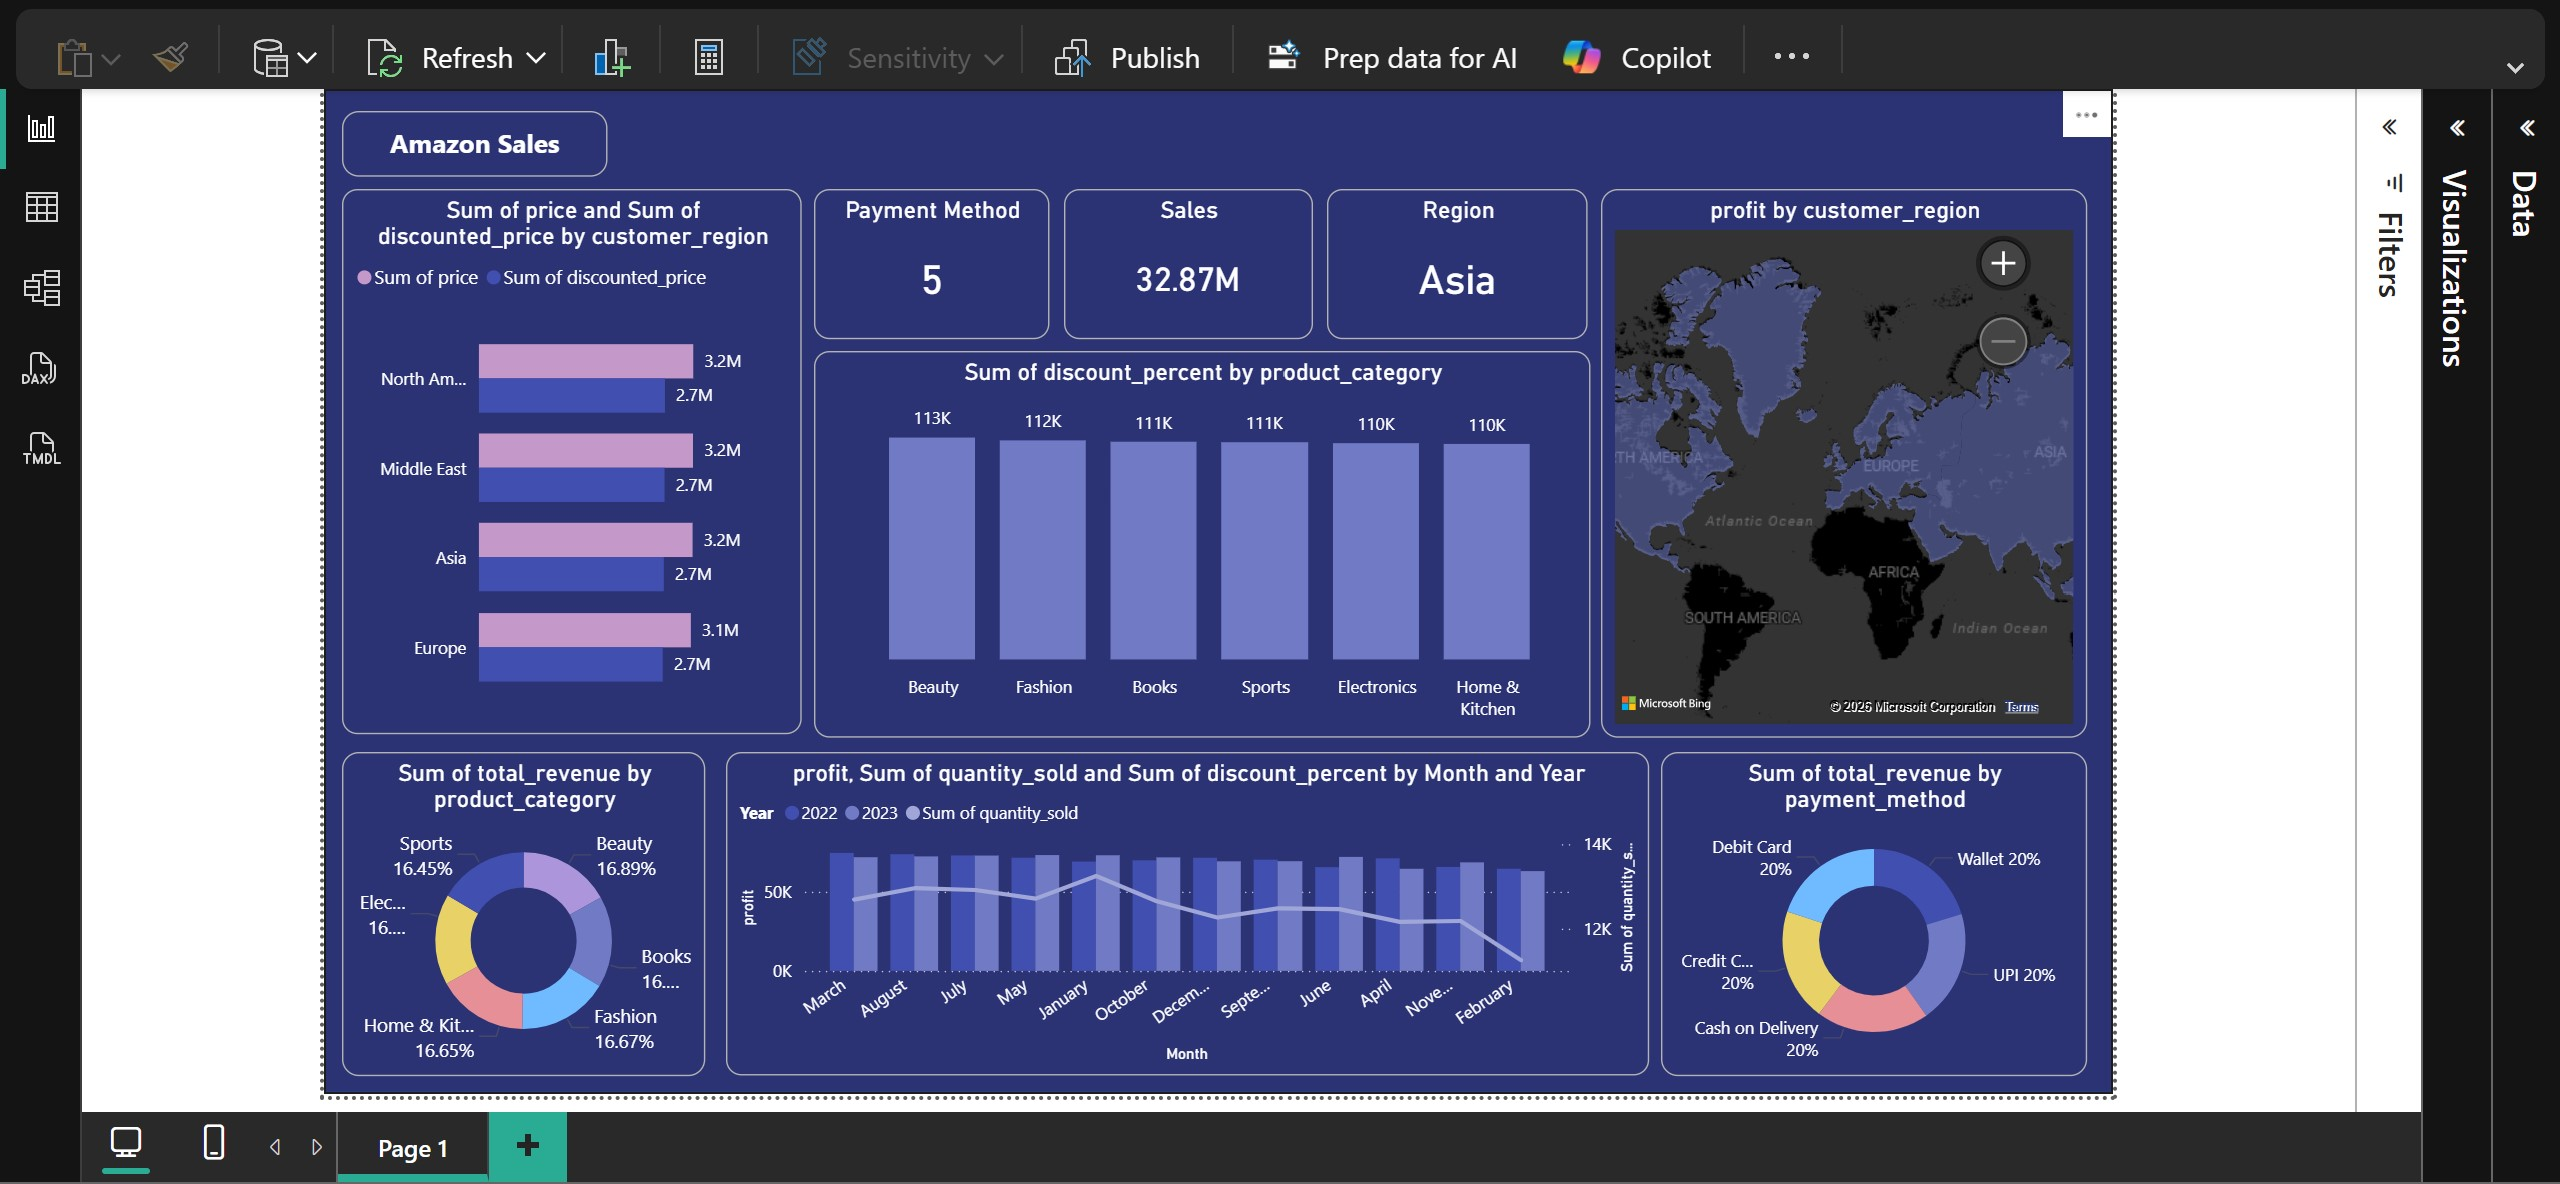

Layout of this report page (visuals, bound fields, positions):
{"tool":"powerbi","page":{"name":"Page 1","canvas":[1280,720],"ordinal":0},"visuals":[{"type":"shape","box":[0,0,1280,718],"z":0},{"type":"donutChart","fields":{"Y":["Sum(amazon_sales_dataset.total_revenue)"],"Category":["amazon_sales_dataset.product_category"]},"box":[13,474,260,232],"z":1000},{"type":"filledMap","title":"profit by customer_region(USD)","fields":{"Category":["amazon_sales_dataset.customer_region"]},"box":[913.2,71.6,347.8,392.2],"z":2000},{"type":"textbox","box":[13,16,190,47],"z":3000},{"type":"donutChart","title":"Total_revenue by payment_method","fields":{"Category":["amazon_sales_dataset.payment_method"],"Y":["Sum(amazon_sales_dataset.total_revenue)"]},"box":[956.2,473.8,304.9,231.9],"z":4000},{"type":"card","title":"Total Loss(USD)","fields":{"Values":["amazon_sales_dataset.Loss"]},"box":[350.3,71.3,168.3,107.7],"z":5000},{"type":"lineClusteredColumnComboChart","title":"Profit and Total Quantity_sold by Month and Year(USD)","fields":{"Category":["amazon_sales_dataset.Month"],"Y":["amazon_sales_dataset.profit"],"Y2":["Sum(amazon_sales_dataset.quantity_sold)"],"Series":["amazon_sales_dataset.Year"]},"box":[288.3,473.3,660,231.7],"z":6000},{"type":"clusteredBarChart","title":"Total Price vs Discounted Price (USD)","fields":{"Y":["Sum(amazon_sales_dataset.price)","Sum(amazon_sales_dataset.discounted_price)"],"Category":["amazon_sales_dataset.customer_region"]},"box":[12.9,71.6,329.2,389.3],"z":7000},{"type":"clusteredColumnChart","title":"Total Loss(USD) by product_category","fields":{"Category":["amazon_sales_dataset.product_category"],"Y":["amazon_sales_dataset.Loss"]},"box":[350.3,188.1,555.1,276],"z":8000},{"type":"card","title":"Total Sales(USD)","fields":{"Values":["amazon_sales_dataset.Total_sales"]},"box":[529.3,71.3,177.4,107.7],"z":9000},{"type":"card","title":"Region","fields":{"Values":["Min(amazon_sales_dataset.customer_region)"]},"box":[717.3,71.3,186.5,107.7],"z":10000}]}

Visuals, with their boxes on the page's 1280x720 design canvas (x1, y1, x2, y2). These are canvas units, not pixel positions in the 2560x1184 screenshot, which may show the page scaled, cropped or inside an application window:
shape: bbox=(0, 0, 1280, 718)
donutChart - Sum(amazon_sales_dataset.total_revenue) x amazon_sales_dataset.product_category: bbox=(13, 474, 273, 706)
"profit by customer_region(USD)" filledMap: bbox=(913, 72, 1261, 464)
textbox: bbox=(13, 16, 203, 63)
"Total_revenue by payment_method" donutChart: bbox=(956, 474, 1261, 706)
"Total Loss(USD)" card: bbox=(350, 71, 519, 179)
"Profit and Total Quantity_sold by Month and Year(USD)" lineClusteredColumnComboChart: bbox=(288, 473, 948, 705)
"Total Price vs Discounted Price (USD)" clusteredBarChart: bbox=(13, 72, 342, 461)
"Total Loss(USD) by product_category" clusteredColumnChart: bbox=(350, 188, 905, 464)
"Total Sales(USD)" card: bbox=(529, 71, 707, 179)
"Region" card: bbox=(717, 71, 904, 179)
